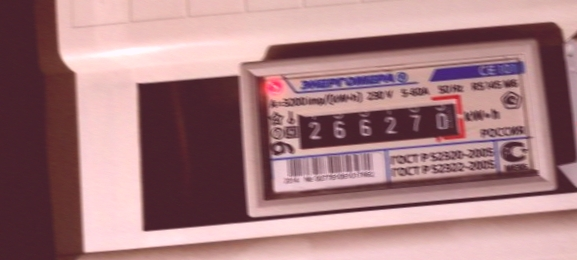0: (432, 108, 448, 129)
2: (306, 118, 321, 140), (383, 113, 397, 134)
6: (331, 117, 345, 138), (357, 115, 371, 135)
7: (409, 111, 420, 131)
screen: (283, 88, 471, 158)
